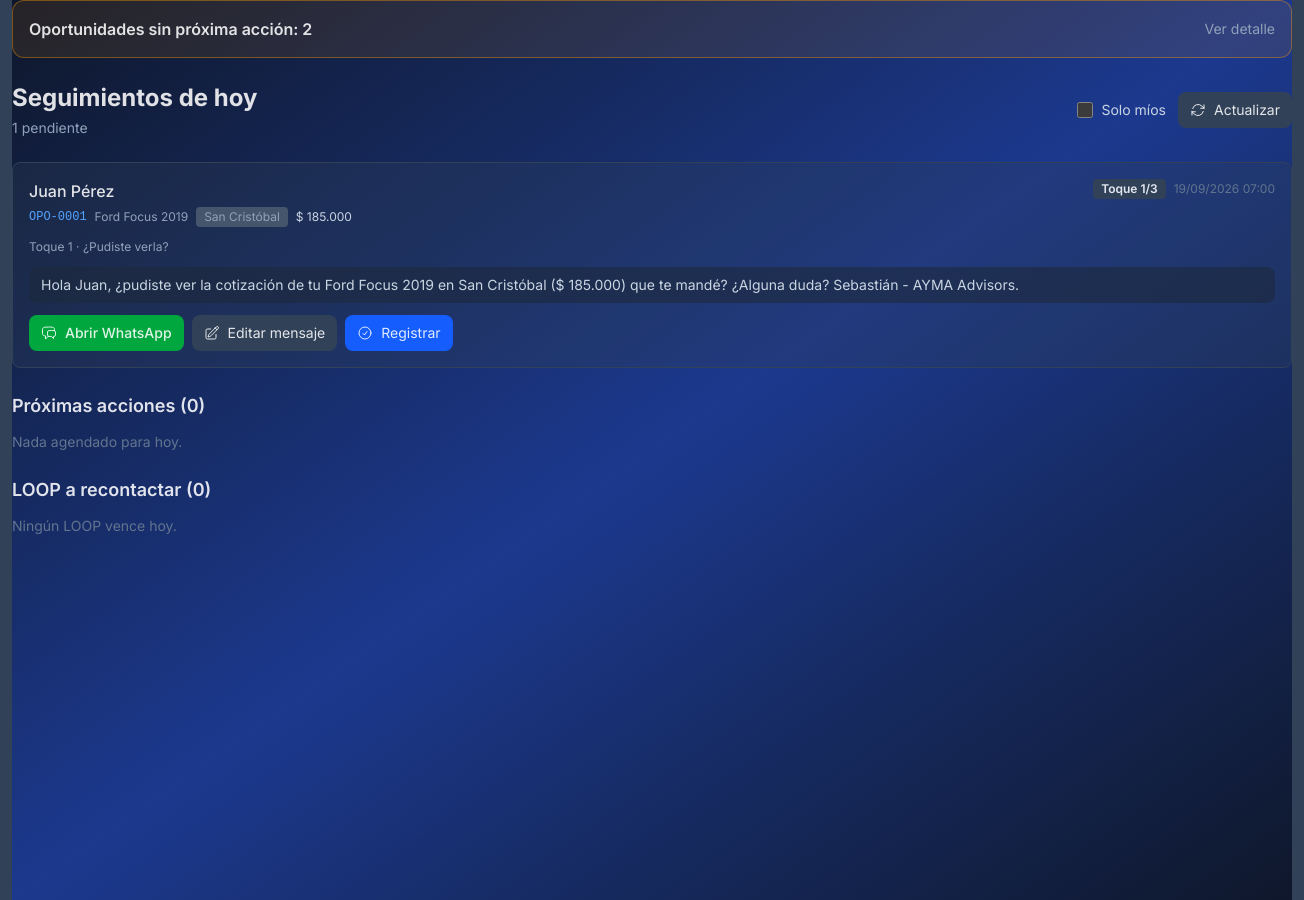
Test: Tarjeta ADMIN · sin próxima acción › ADMIN ve el total y el detalle desplegable con link a la ficha
Check: the element with test id "sin-proxima-accion" shows "Oportunidades sin próxima acción: 2", box [12, 0, 1292, 58]
Check: the text "Eva" is not shown
Click the button "Oportunidades sin próxima acción: 2 Ver detalle" at (166, 29), box [29, 17, 1275, 41]
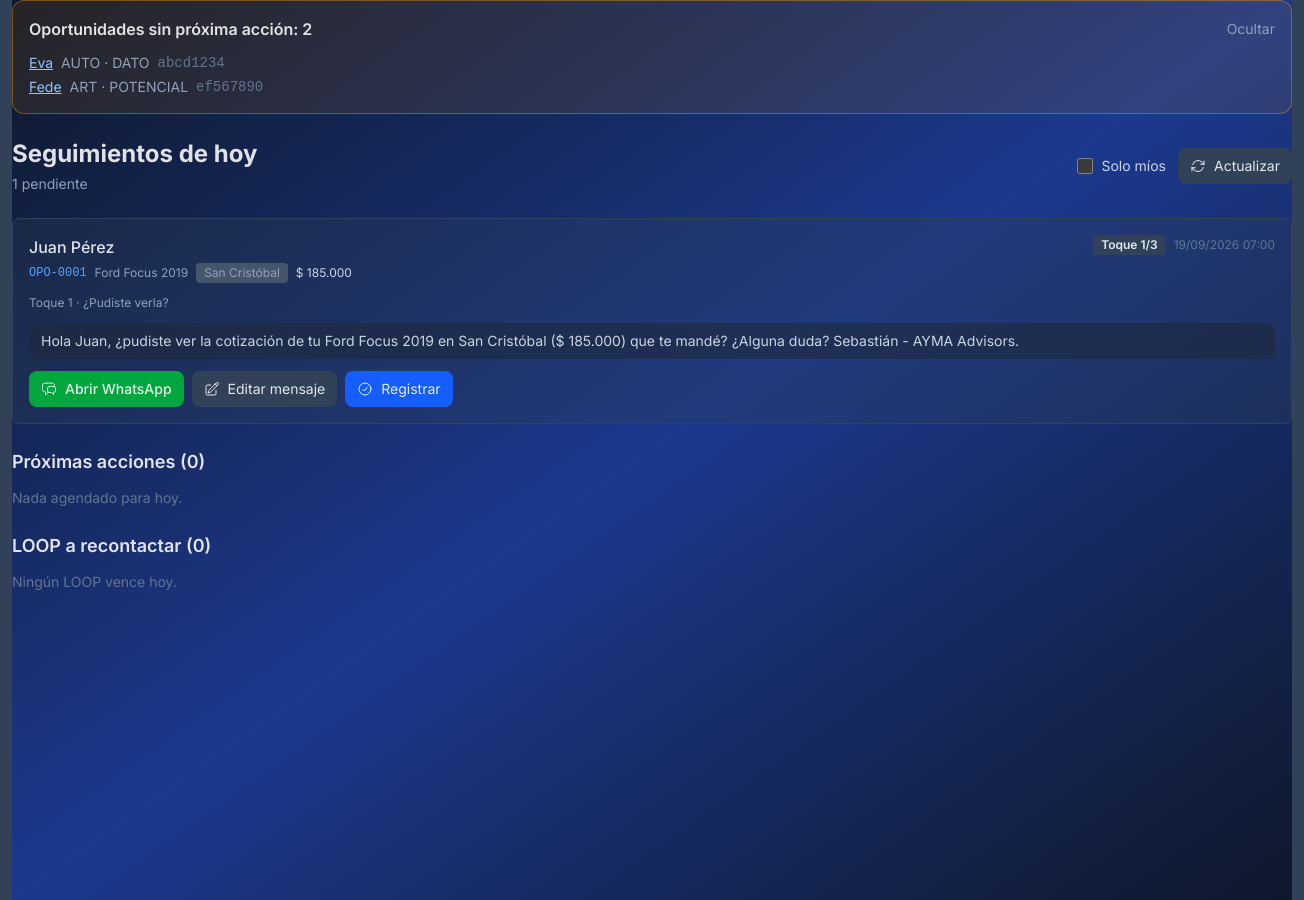
Check: the button "Eva" is shown, box [29, 53, 53, 73]
Check: the text "ART · POTENCIAL" is shown, box [70, 77, 188, 97]
